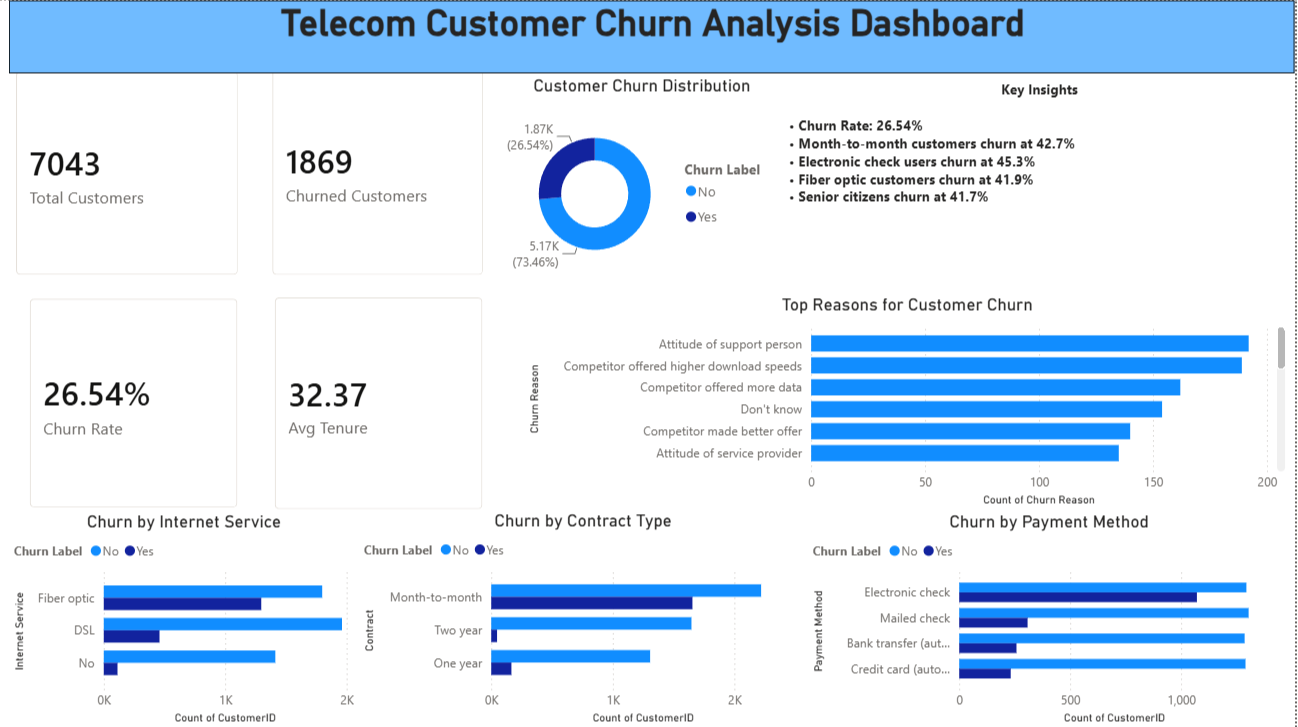

The page's visual inventory and layout, read from the dashboard file:
{"tool":"powerbi","page":{"name":"Page 1","canvas":[1280,720],"ordinal":0},"visuals":[{"type":"cardVisual","fields":{"Data":["Telco_Churn.Total Customers"]},"box":[0,53.7,253.3,235.8],"z":0},{"type":"cardVisual","fields":{"Data":["Telco_Churn.Churned Customers"]},"box":[253.3,48.7,242.1,240.8],"z":1000},{"type":"cardVisual","fields":{"Data":["Telco_Churn.Churn Rate"]},"box":[13.5,277.6,239.7,240.9],"z":2000},{"type":"cardVisual","fields":{"Data":["Telco_Churn.Avg Tenure"]},"box":[255.6,276.4,239.7,243.3],"z":3000},{"type":"donutChart","title":"Customer Churn Distribution","fields":{"Y":["CountNonNull(Telco_Churn.CustomerID)"],"Category":["Telco_Churn.Churn Label"]},"box":[495.2,74.6,280,215.2],"z":4000},{"type":"clusteredBarChart","title":"Churn by Contract Type","fields":{"Category":["Telco_Churn.Contract"],"Y":["CountNonNull(Telco_Churn.CustomerID)"],"Series":["Telco_Churn.Churn Label"]},"box":[355.6,504.1,443,215.9],"z":5000},{"type":"clusteredBarChart","title":"Churn by Payment Method","fields":{"Category":["Telco_Churn.Payment Method"],"Y":["CountNonNull(Telco_Churn.CustomerID)"],"Series":["Telco_Churn.Churn Label"]},"box":[798.6,505.4,476.7,214.6],"z":6000},{"type":"clusteredBarChart","title":"Churn by Internet Service","fields":{"Category":["Telco_Churn.Internet Service"],"Y":["CountNonNull(Telco_Churn.CustomerID)"],"Series":["Telco_Churn.Churn Label"]},"box":[10,505.4,345.6,214.6],"z":7000},{"type":"clusteredBarChart","title":"Top Reasons for Customer Churn","fields":{"Category":["Telco_Churn.Churn Reason"],"Y":["CountNonNull(Telco_Churn.Churn Reason)"]},"box":[518.5,289.8,756.9,214],"z":8000},{"type":"textbox","title":"Telecom Customer Churn Analysis Dashboard","box":[10.4,0,1269.9,71.6],"z":9000},{"type":"textbox","box":[775.3,74.6,505,215.2],"z":10000}]}

Visuals, with their boxes in screenshot pixels (x1, y1, x2, y2), scaled from the page's 1280x720 canvas onto the 1298x727 screenshot:
cardVisual - Telco_Churn.Total Customers: 0:54:257:292
cardVisual - Telco_Churn.Churned Customers: 257:49:502:292
cardVisual - Telco_Churn.Churn Rate: 14:280:257:524
cardVisual - Telco_Churn.Avg Tenure: 259:279:502:525
"Customer Churn Distribution" donutChart: 502:75:786:293
"Churn by Contract Type" clusteredBarChart: 361:509:810:726
"Churn by Payment Method" clusteredBarChart: 810:510:1293:726
"Churn by Internet Service" clusteredBarChart: 10:510:361:726
"Top Reasons for Customer Churn" clusteredBarChart: 526:293:1293:509
"Telecom Customer Churn Analysis Dashboard" textbox: 11:0:1297:72
textbox: 786:75:1297:293
